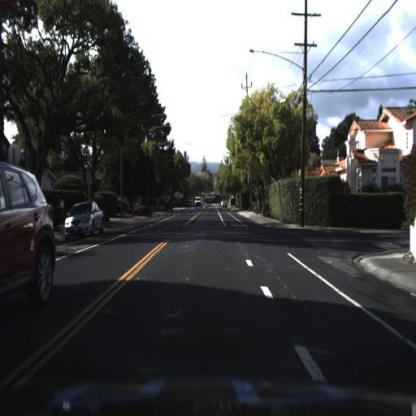biker: (167, 197, 176, 218)
car: (1, 160, 58, 321), (60, 195, 109, 245), (195, 194, 205, 212), (220, 199, 231, 212)
